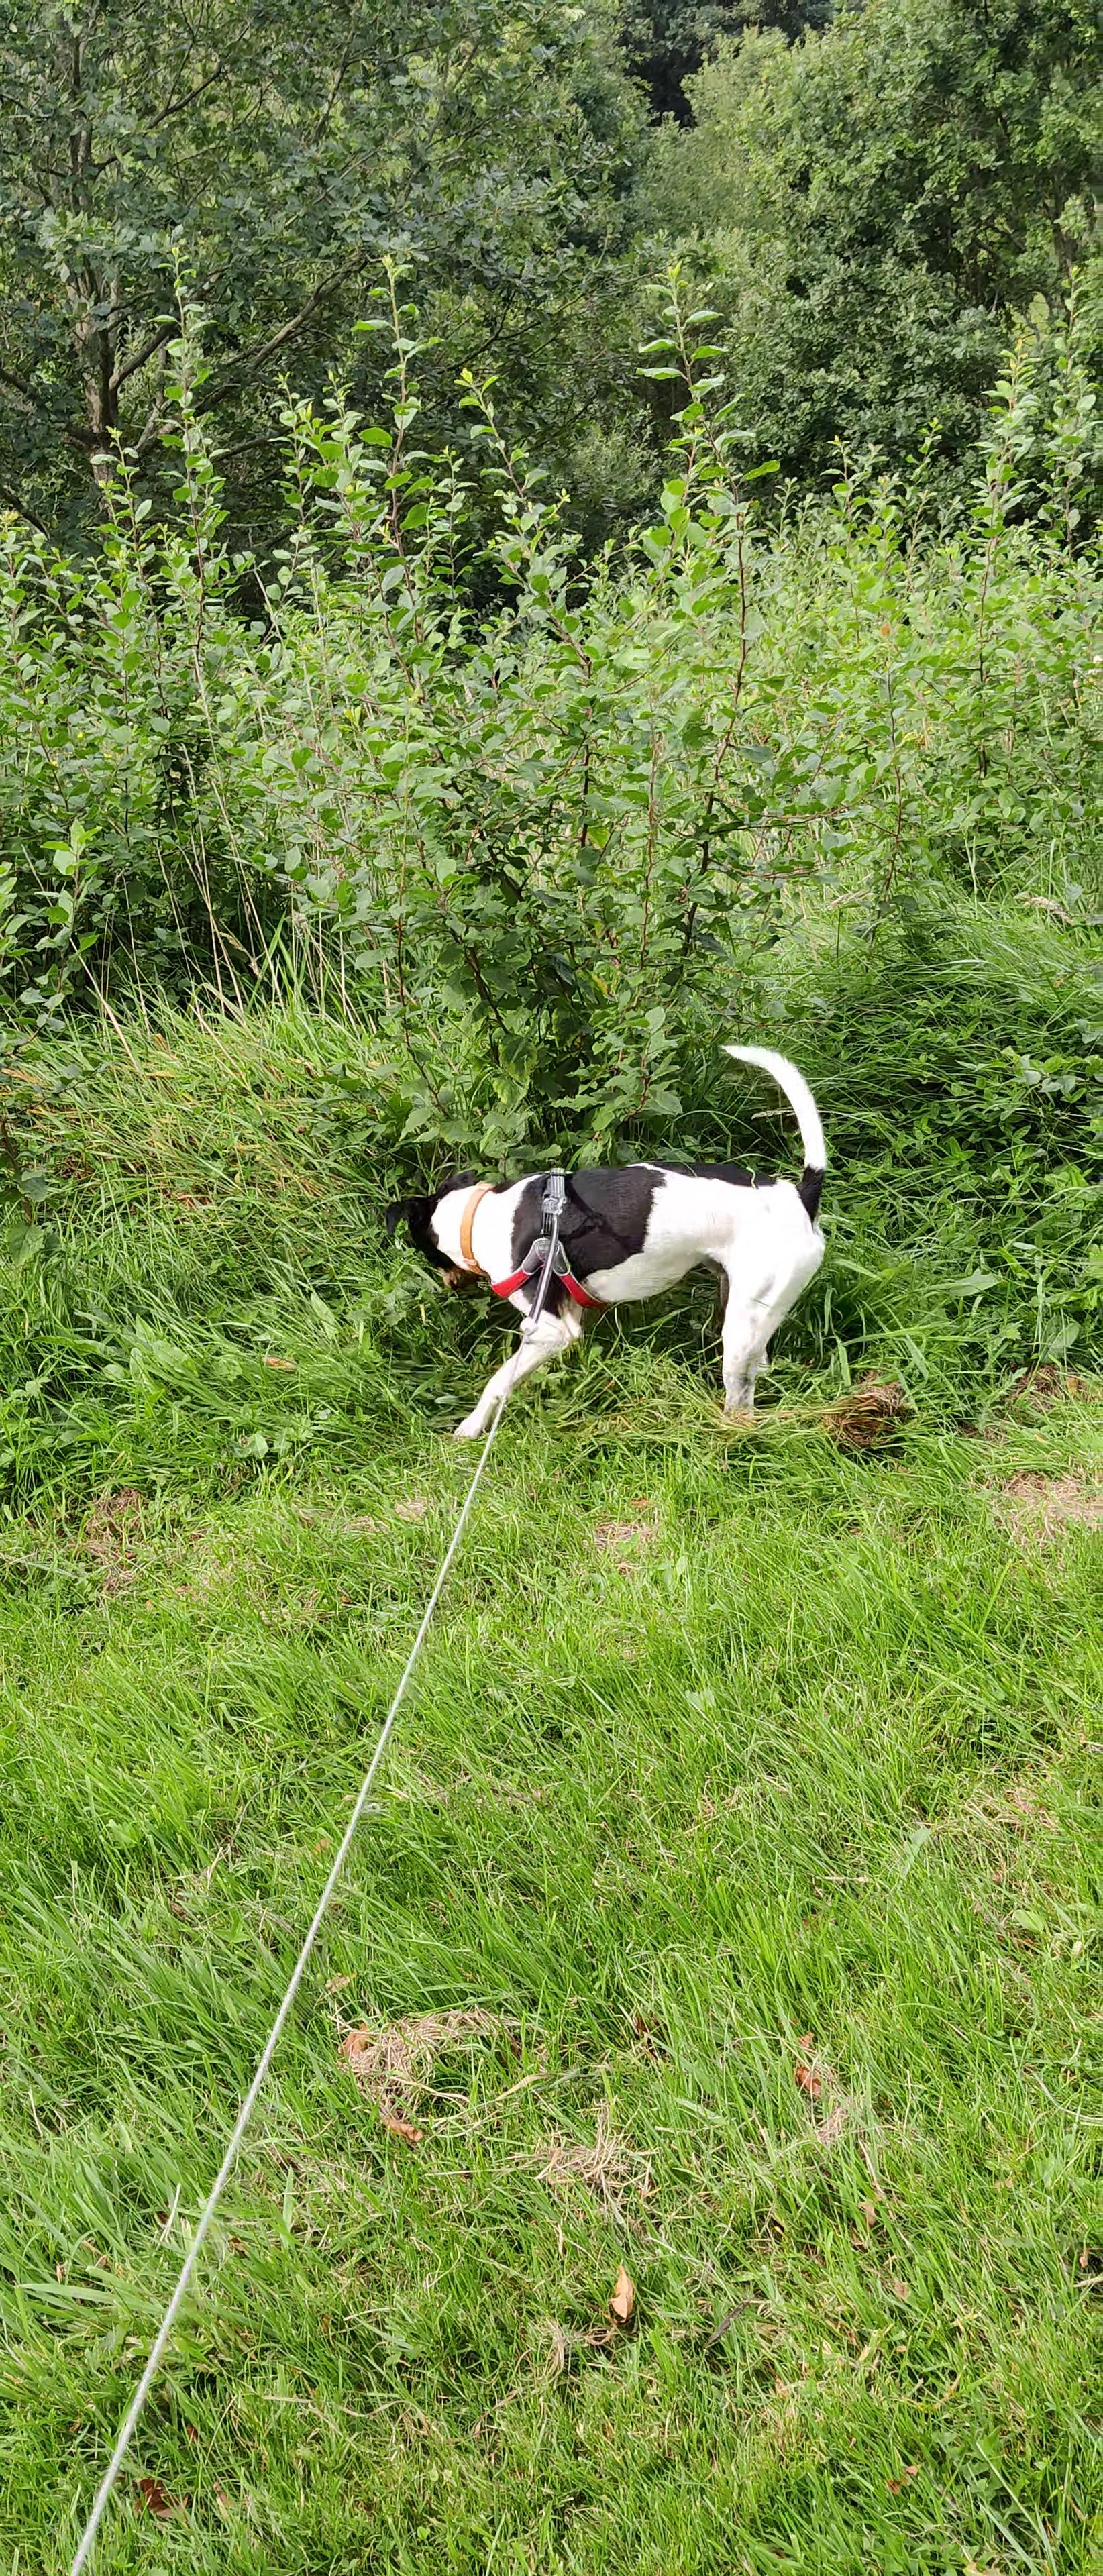Dog: (375, 1035, 837, 1444)
